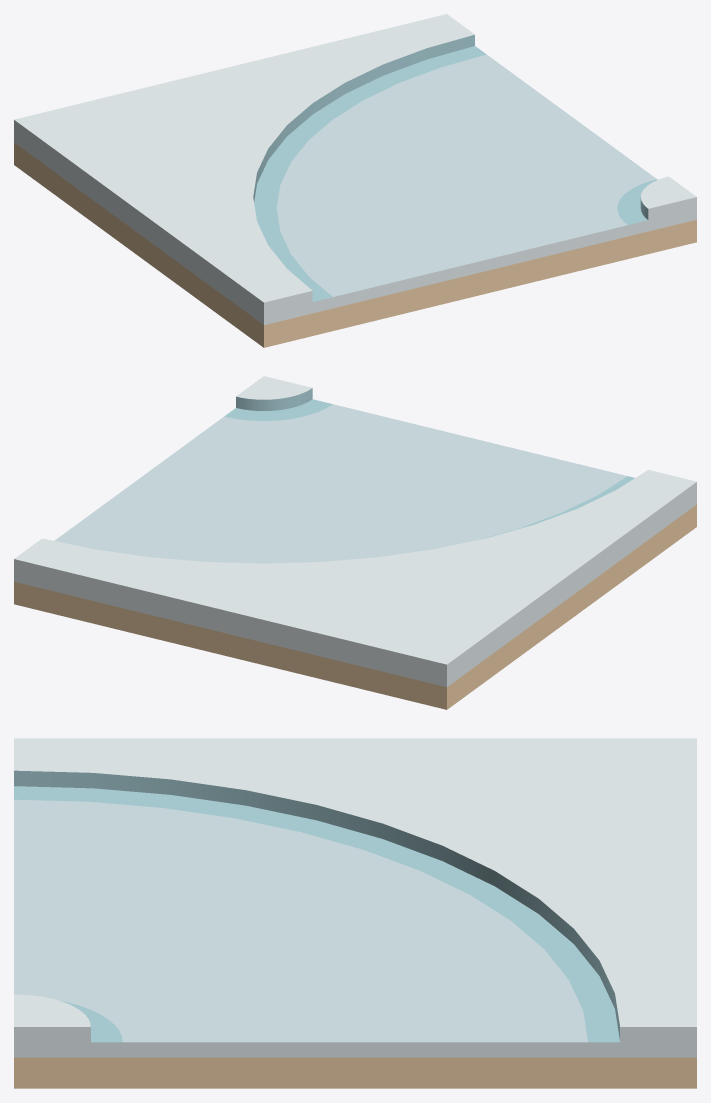
Rendered from snow_tile_wideCorner.glb.
3 views of the same model, one above another, from view 1: azimuth 30°, elevation 25°; view 2: azimuth 150°, elevation 25°; view 3: azimuth 270°, elevation 25° (orthographic). The views are drawn at different scales.
Visible parts, largest first — view 1: snow_tile_wideCorner; view 2: snow_tile_wideCorner; view 3: snow_tile_wideCorner.
Part boxes in pixels (x1,y1,x2,y2): snow_tile_wideCorner: (14, 14, 696, 347); snow_tile_wideCorner: (14, 376, 696, 709); snow_tile_wideCorner: (14, 738, 696, 1088).
Bounding box in the file's own units: 2 × 0.2 × 2.
